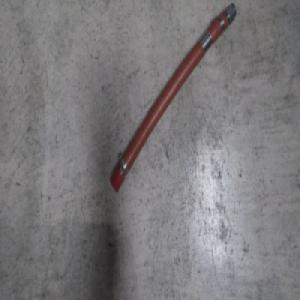Hose: (108, 3, 238, 194)
